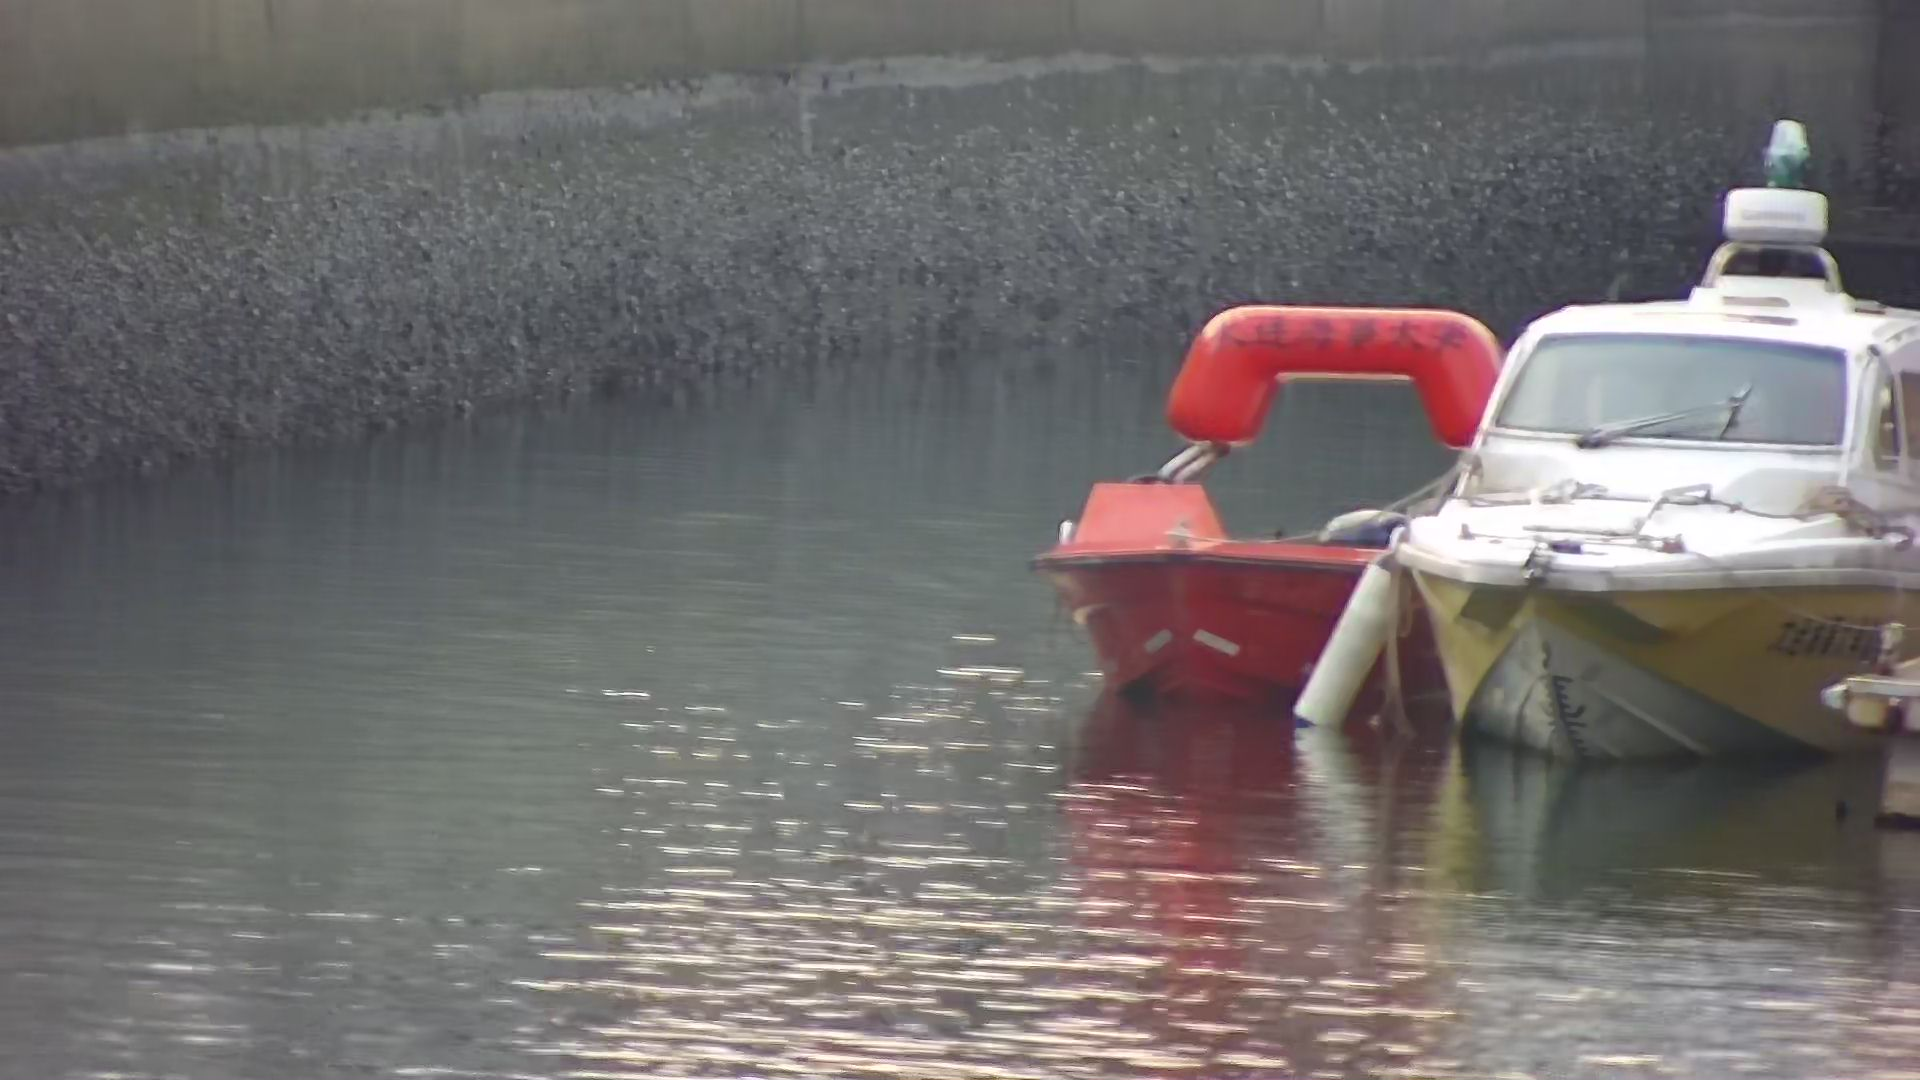boat: (1043, 293, 1509, 720)
ship: (1407, 156, 1920, 779)
